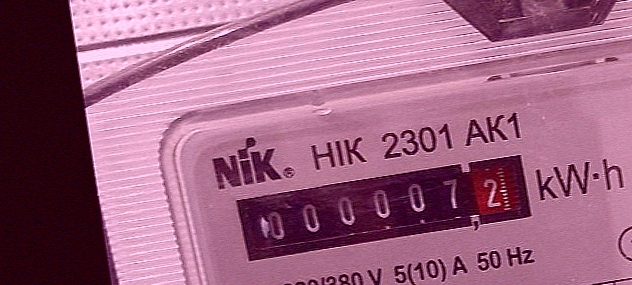0: (331, 188, 359, 229), (368, 183, 394, 223), (261, 204, 288, 242), (402, 176, 428, 215), (298, 197, 323, 234)
2: (478, 172, 504, 211)
7: (437, 172, 464, 212)
screen: (228, 144, 541, 268)
